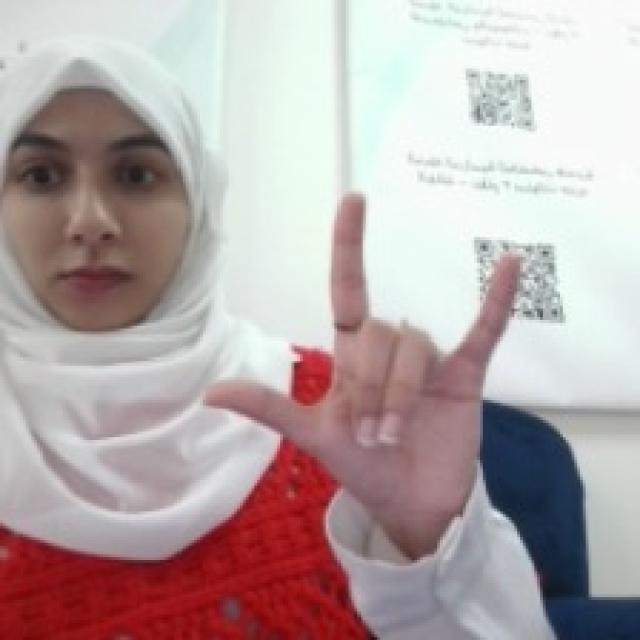love: (194, 180, 523, 511)
